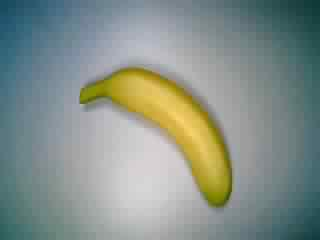banana: (78, 62, 236, 208)
